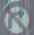Don't turn right: (0, 3, 33, 33)
